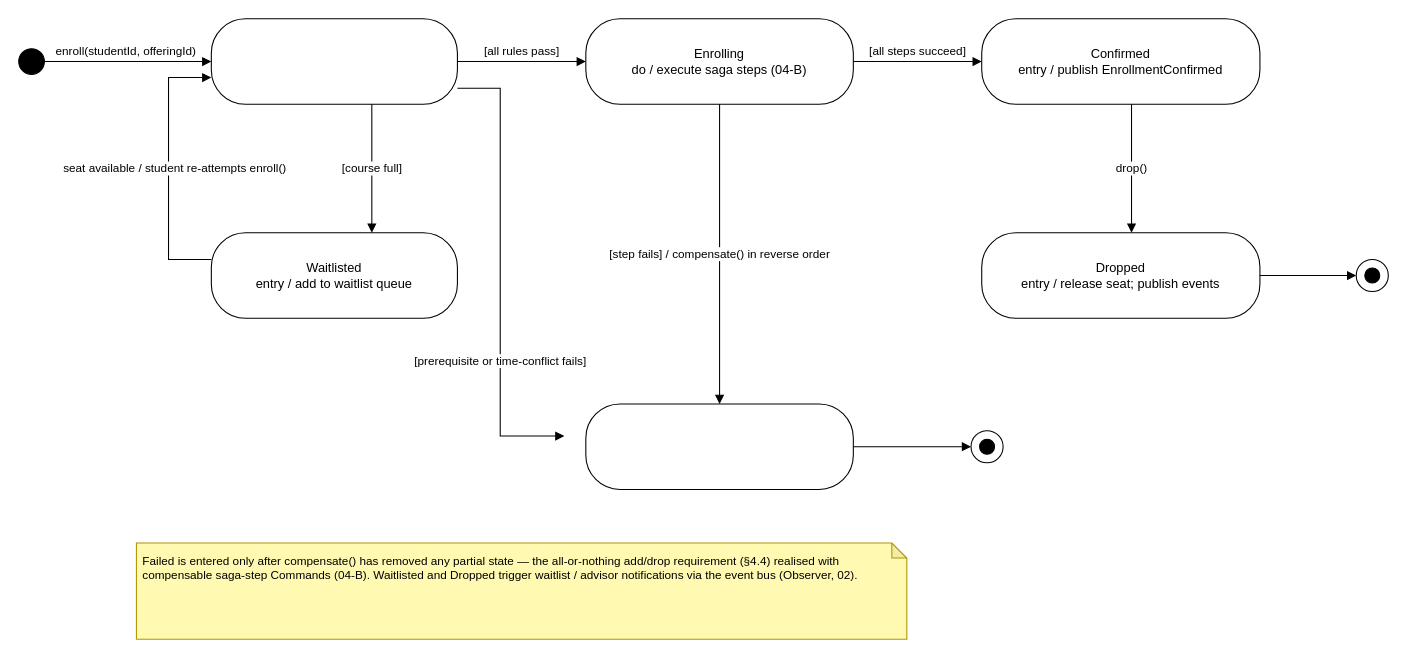
The diagram is 1407 pixels wide and 658 high, and some of its shapes have lost their labels. The shapes that lost their labels are listed below. From the top down, each one's centre as x and y in pixels, then its label:
At point 333,61: "Validating do / run validation chain (01)".
At point 719,446: "Failed entry / report failed rule / step".
